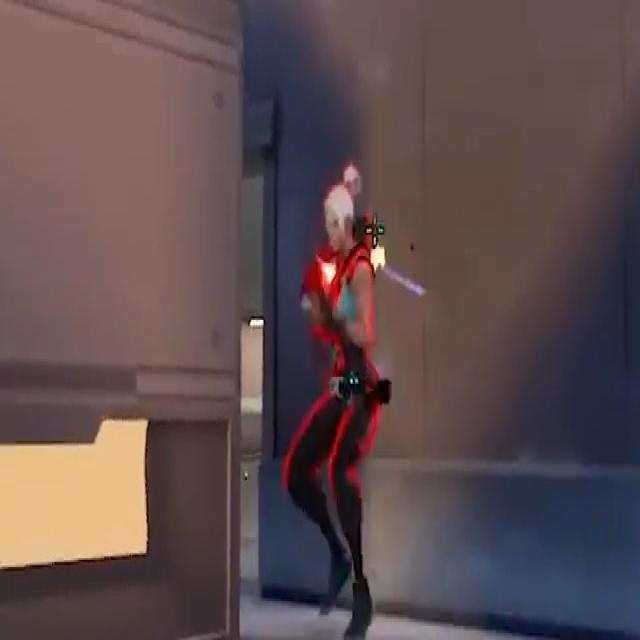enemy: (278, 178, 388, 640)
